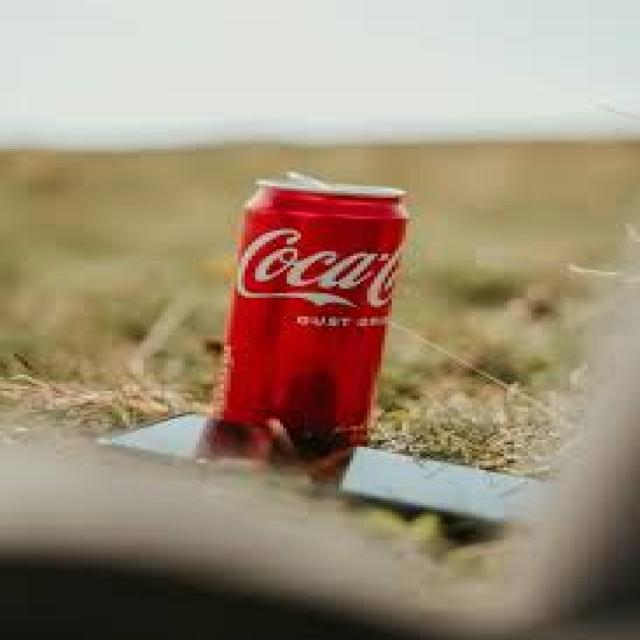Cans: (206, 165, 410, 461)
